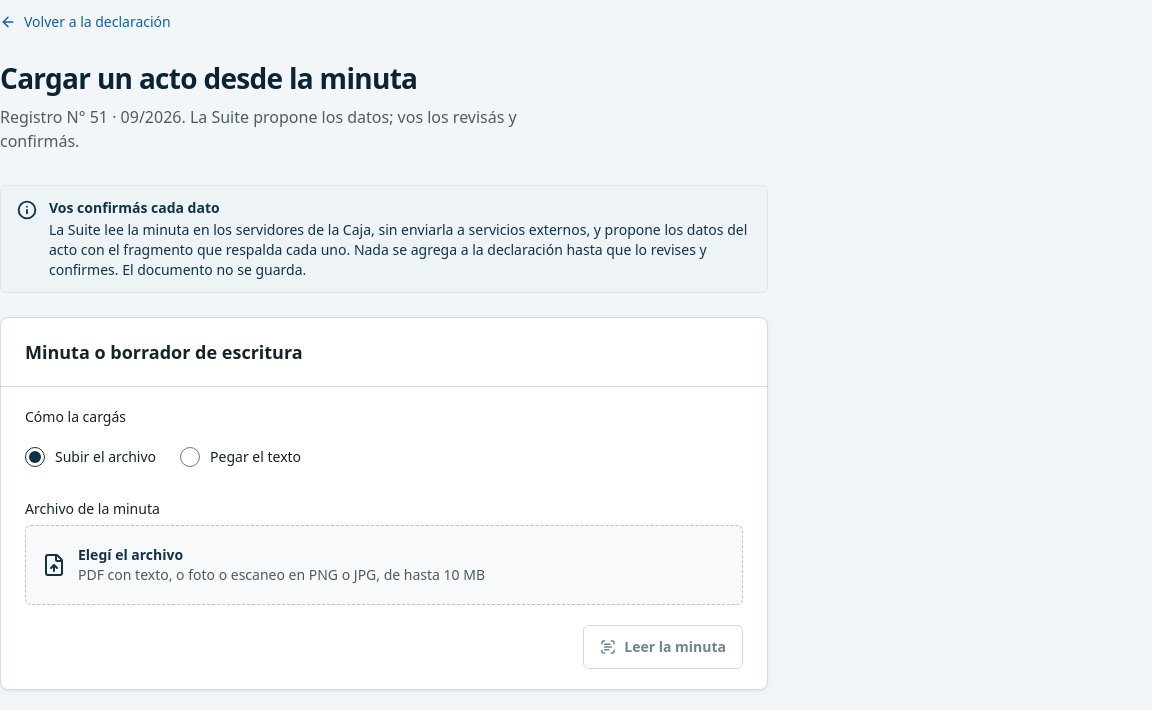
Scenario: carga desde la minuta (Human in Command) › sin escribano identificado no preselecciona a nadie del equipo
Click the radio button labelled "Pegar el texto" at [190, 457], box [180,447,200,467]
(page scrolled)
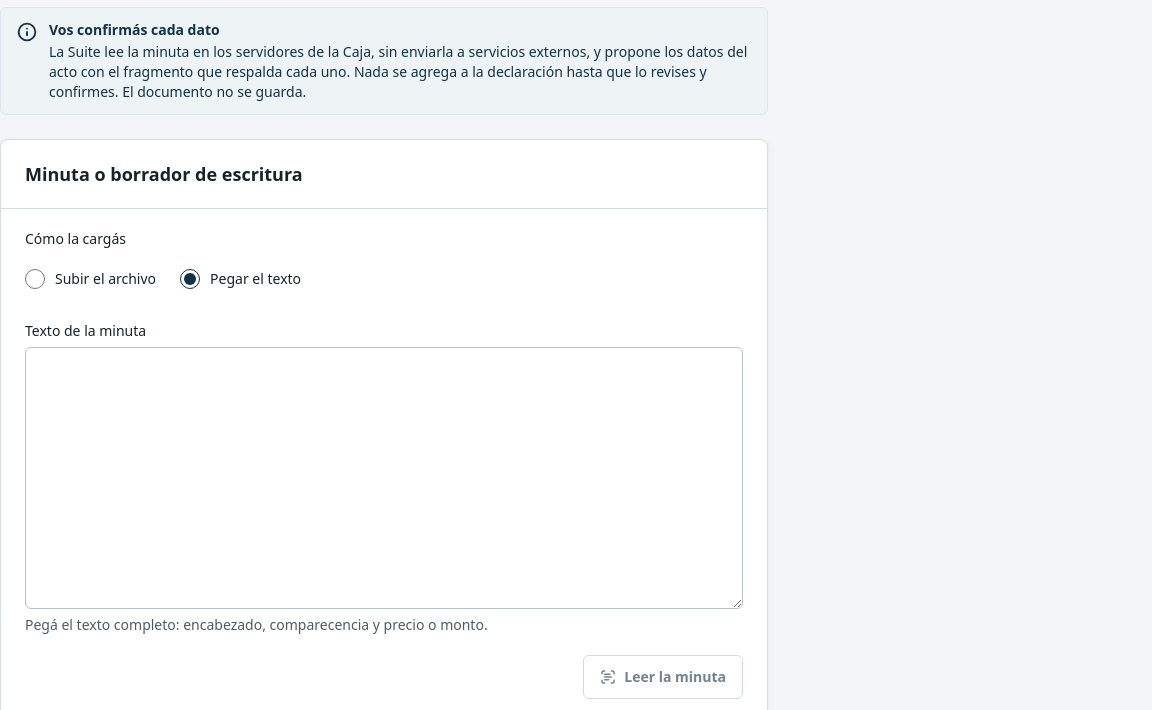
Type "ESCRITURA NÚMERO CIENTO VEINTE (120)…" into the text box labelled "Texto de la minuta" at [384, 478], box [25,347,743,609]
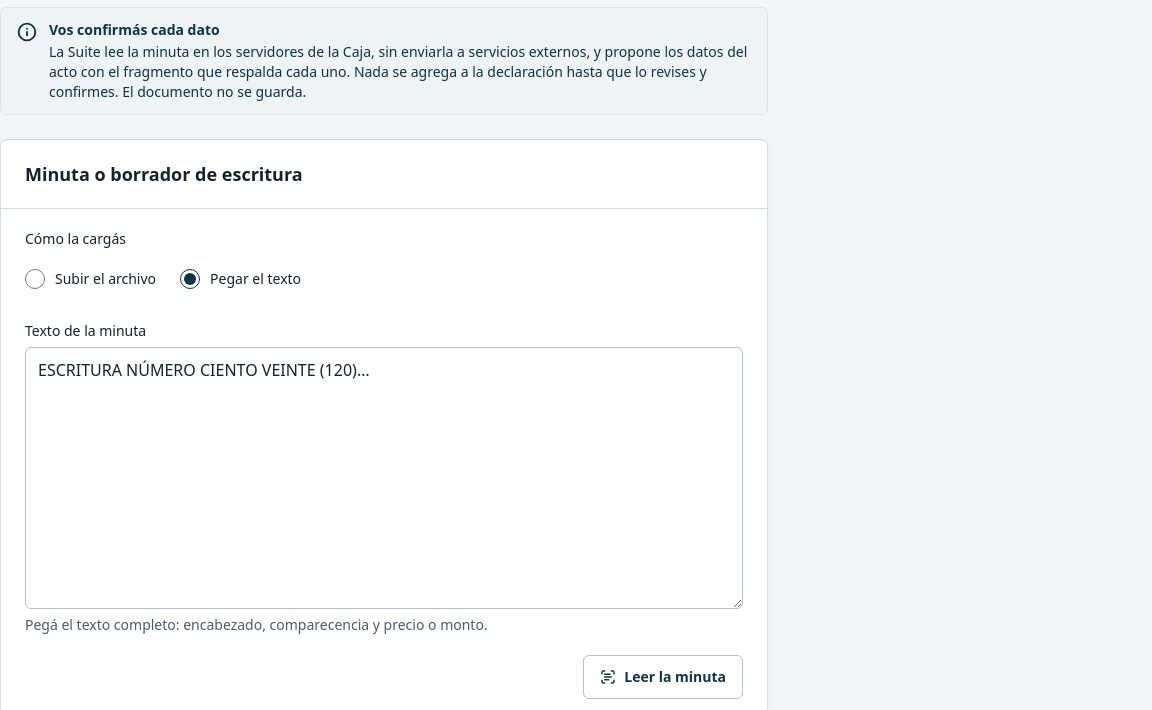
Click the button "Leer la minuta" at [663, 677], box [583,655,743,699]
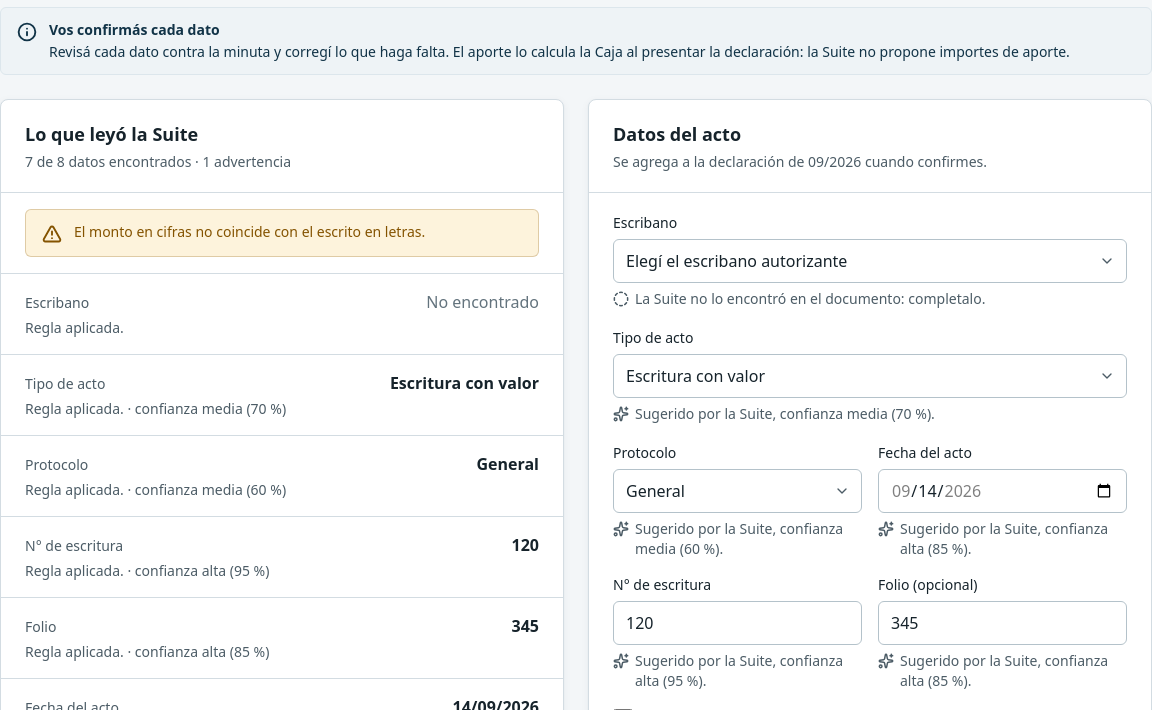
Now the heading "Lo que leyó la Suite" is shown, box [25,122,198,146]
Now the dropdown labelled "Escribano" shows "Elegí el escribano autorizante", box [613,239,1127,283]
Now the text "La Suite no lo encontró en el documento: completalo." is shown, box [635,289,985,309]
